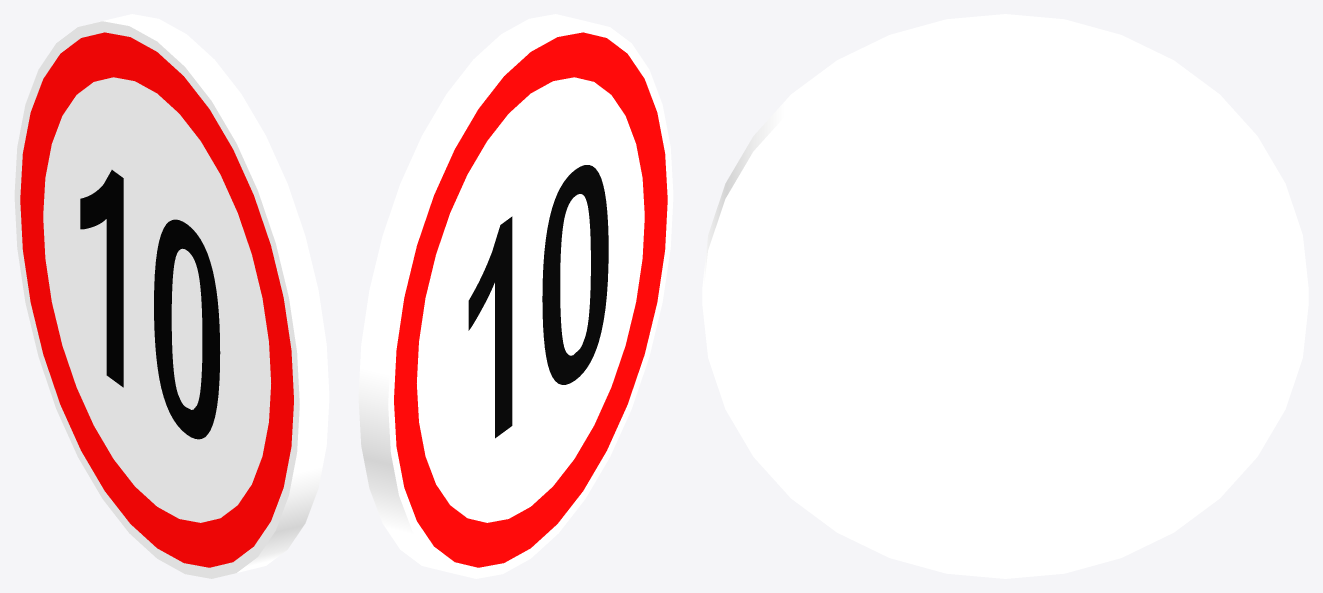
The model's file is Speed_Limit_10.glb.
3 renders of one model, left to right at view 1: azimuth 30°, elevation 25°; view 2: azimuth 150°, elevation 25°; view 3: azimuth 270°, elevation 25°, orthographic. The views are drawn at different scales.
Parts seen in each view (by area): view 1: Speed_Limit_10; view 2: Speed_Limit_10; view 3: Speed_Limit_10.
Boxes of the visible parts, x1,y1,x2,y2 form: Speed_Limit_10: (14, 14, 329, 578); Speed_Limit_10: (358, 14, 673, 578); Speed_Limit_10: (702, 14, 1308, 578).
Bounding box in the file's own units: 0.075 × 1 × 1.
